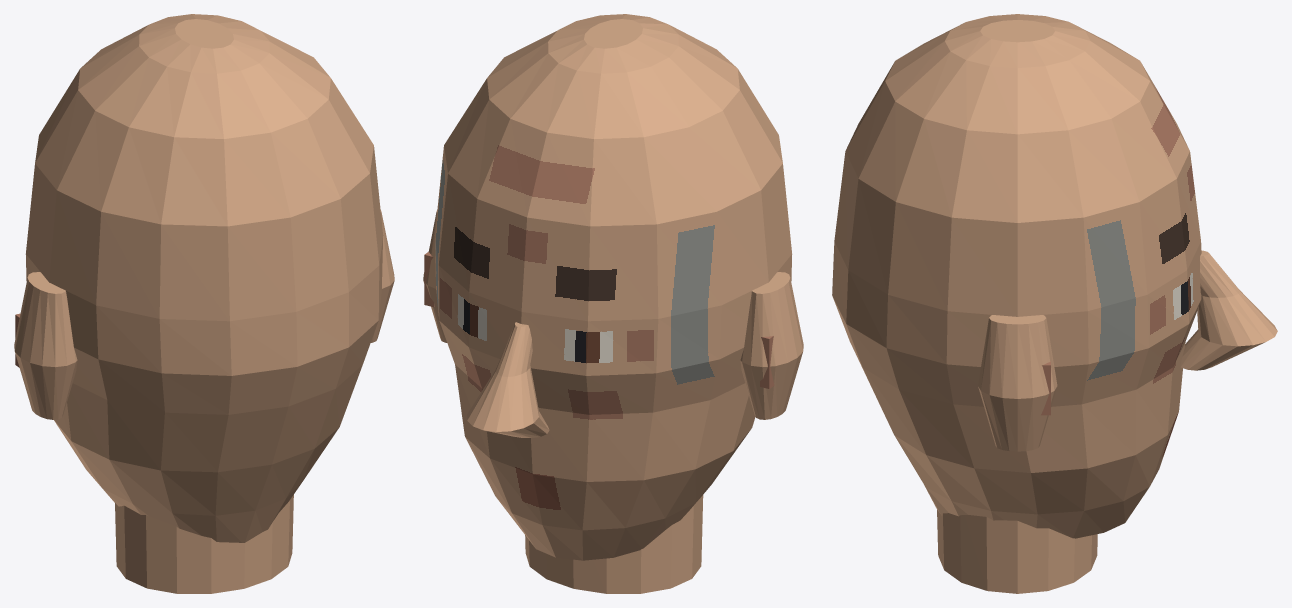
3 renders of one model, left to right at view 1: azimuth 30°, elevation 25°; view 2: azimuth 150°, elevation 25°; view 3: azimuth 270°, elevation 25°, orthographic.
Visible parts, largest first — view 1: 精细老年头部母版 · 共享面孔格1; view 2: 精细老年头部母版 · 共享面孔格1; view 3: 精细老年头部母版 · 共享面孔格1.
Boxes of the visible parts, left/top/right/bottom form: 精细老年头部母版 · 共享面孔格1: left=14, top=14, right=394, bottom=593; 精细老年头部母版 · 共享面孔格1: left=423, top=14, right=803, bottom=593; 精细老年头部母版 · 共享面孔格1: left=832, top=14, right=1277, bottom=593.
Bounding box in the file's own units: 0.192 × 0.262 × 0.2017.
Materials: 3 (3 with a texture image).
